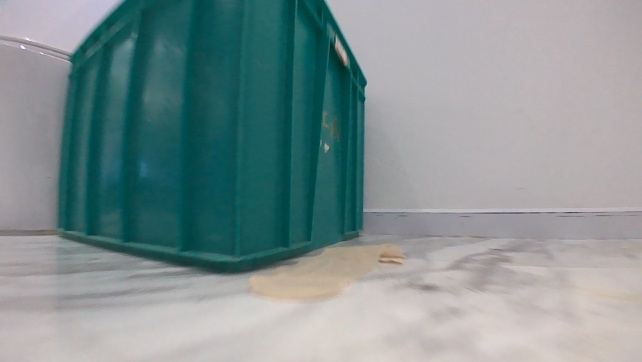socks: (243, 239, 410, 302)
toilet: (0, 31, 73, 234)
